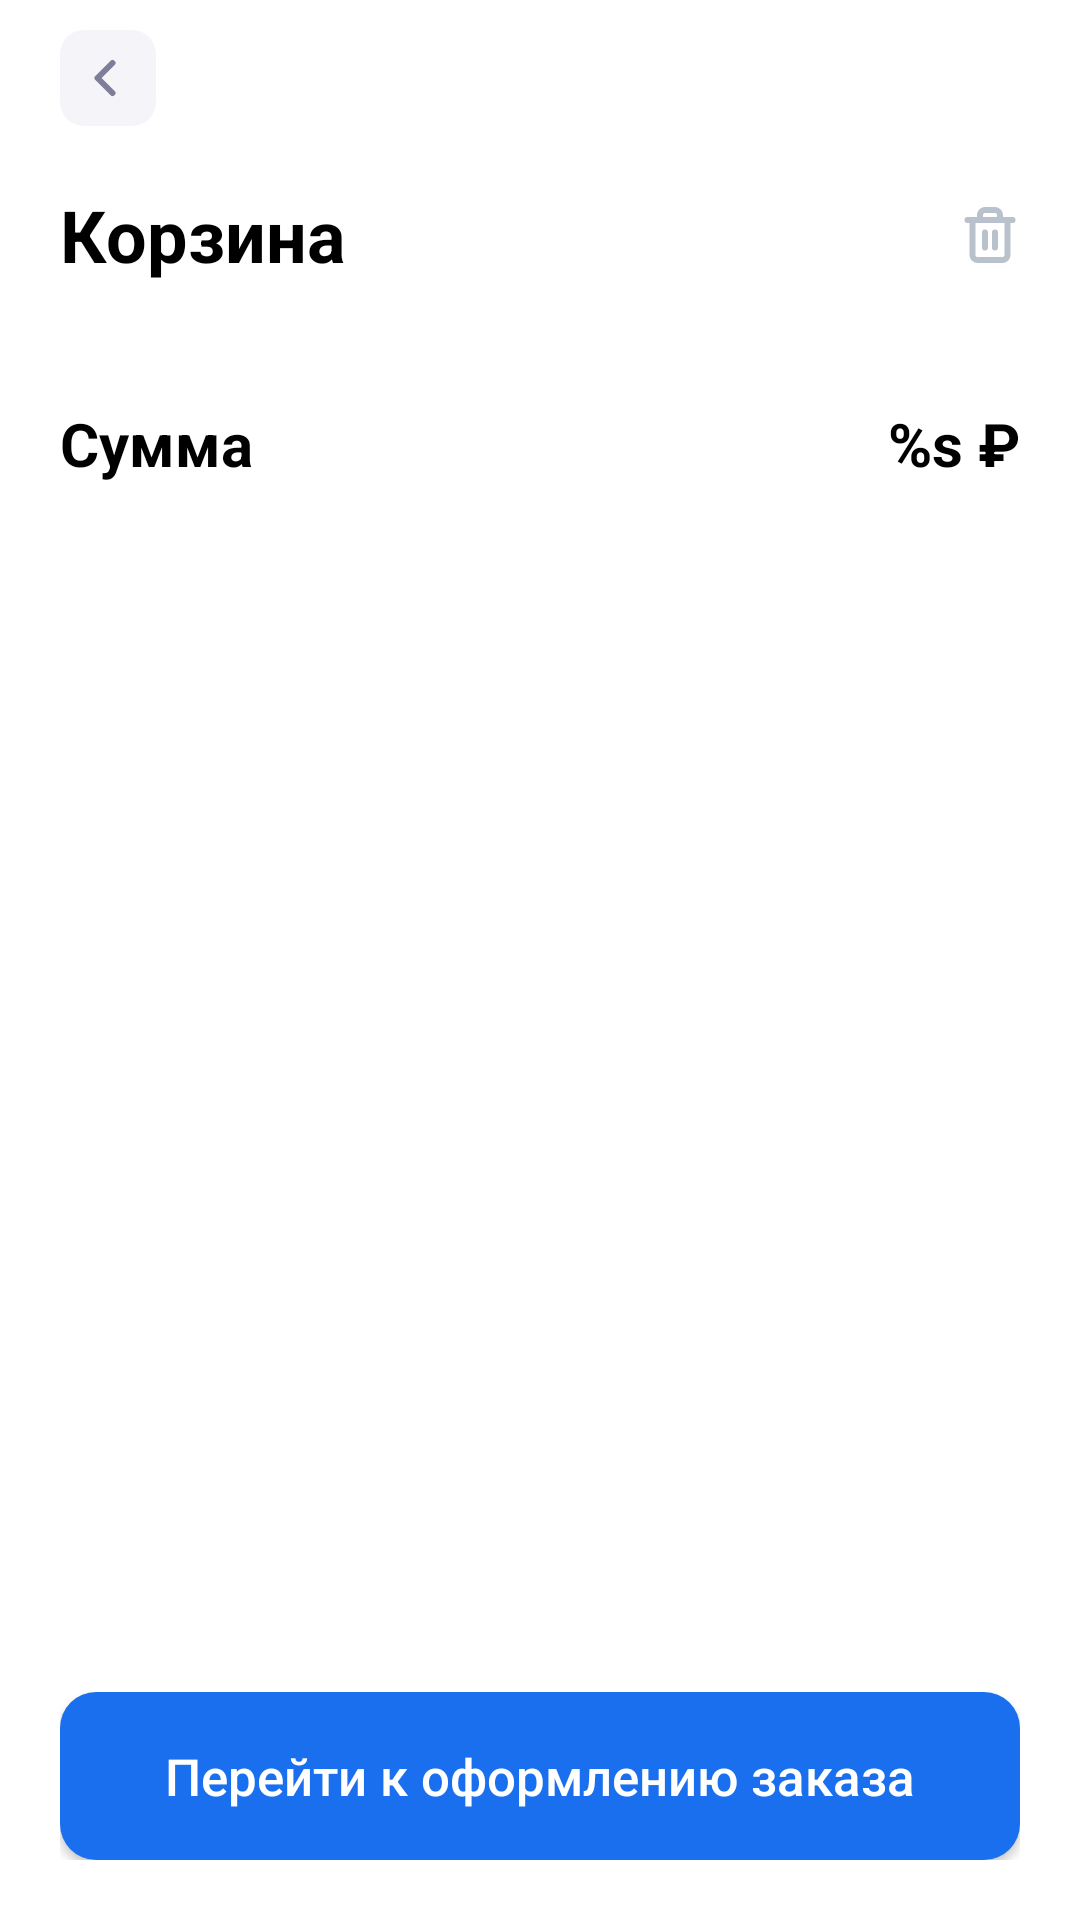

Screen size 1080px×1920px. Icon name, then its center in pixels as [x,y]:
back arrow: [108,78]
trash: [990,235]
